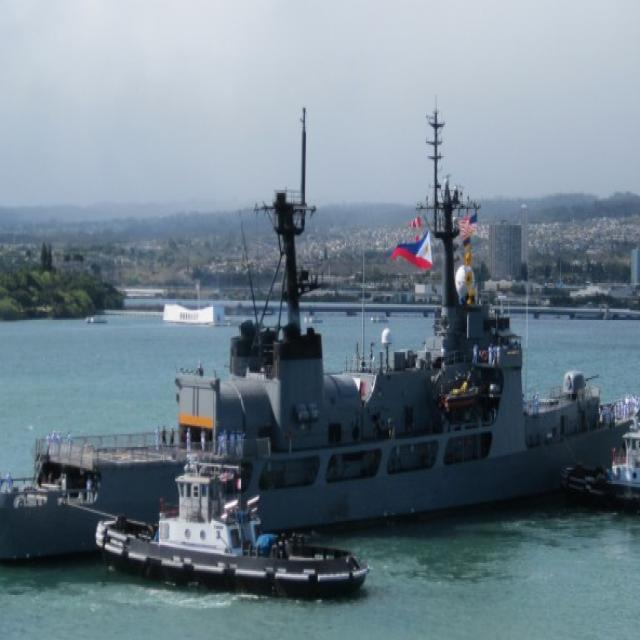Fragata: (31, 69, 640, 559)
